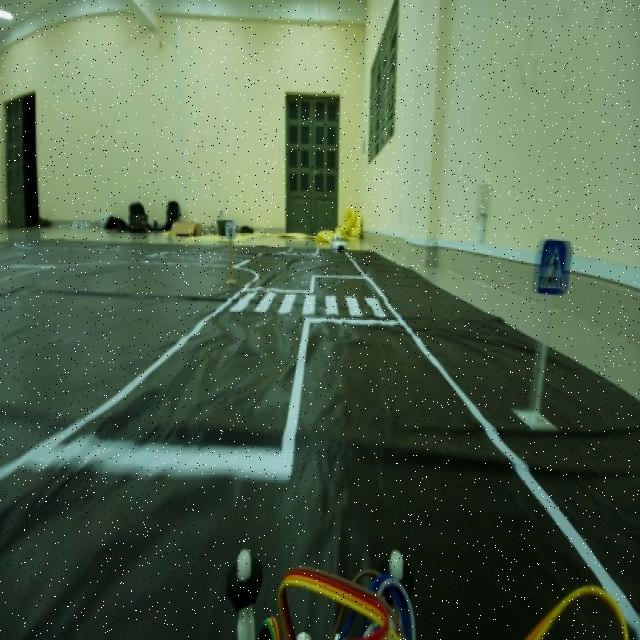crosswalk: (533, 233, 573, 306)
